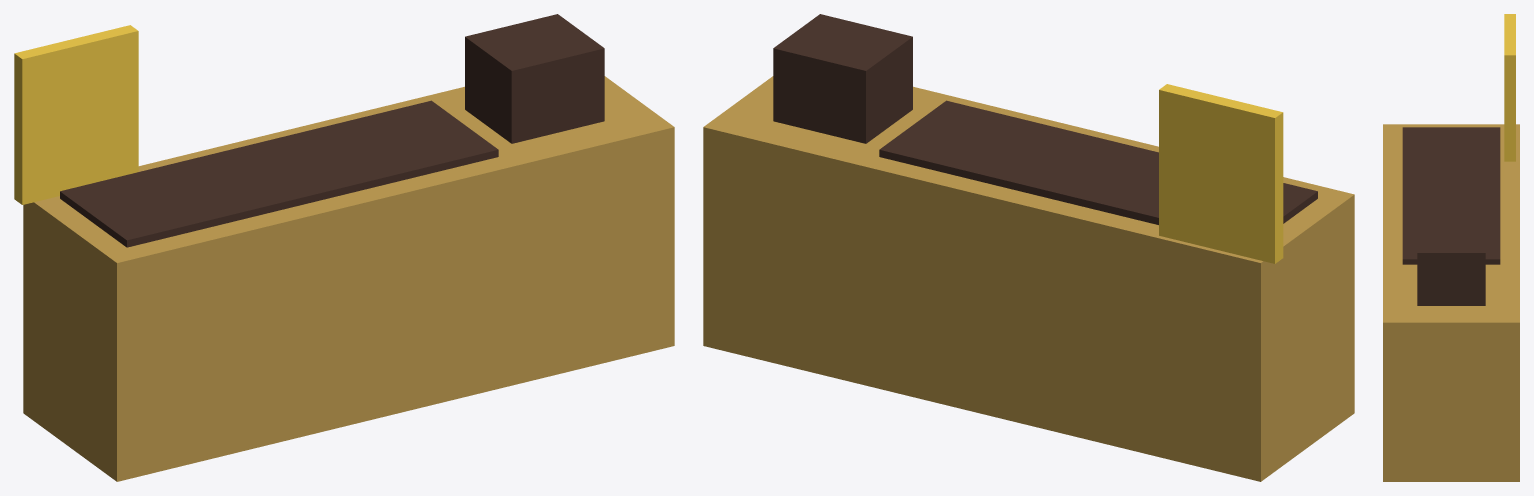
File: checkout.glb
The picture shows the model from 3 angles, left to right: view 1: azimuth 30°, elevation 25°; view 2: azimuth 150°, elevation 25°; view 3: azimuth 270°, elevation 25°; orthographic projection. The views are drawn at different scales.
Visible parts, largest first — view 1: Box1, Box2, Box4, Box3; view 2: Box1, Box4, Box2, Box3; view 3: Box1, Box2, Box3, Box4.
Boxes of the visible parts, x1,y1,x2,y2 form: Box1: (23,76,674,481); Box2: (60,100,498,247); Box4: (14,25,138,204); Box3: (465,14,604,143); Box1: (703,76,1354,481); Box4: (1159,84,1283,263); Box2: (879,100,1317,224); Box3: (773,14,912,143); Box1: (1383,124,1519,481); Box2: (1402,127,1500,264); Box3: (1417,220,1485,305); Box4: (1504,14,1515,161).
Bounding box in the file's own units: 2.45 × 1.5 × 0.7.
